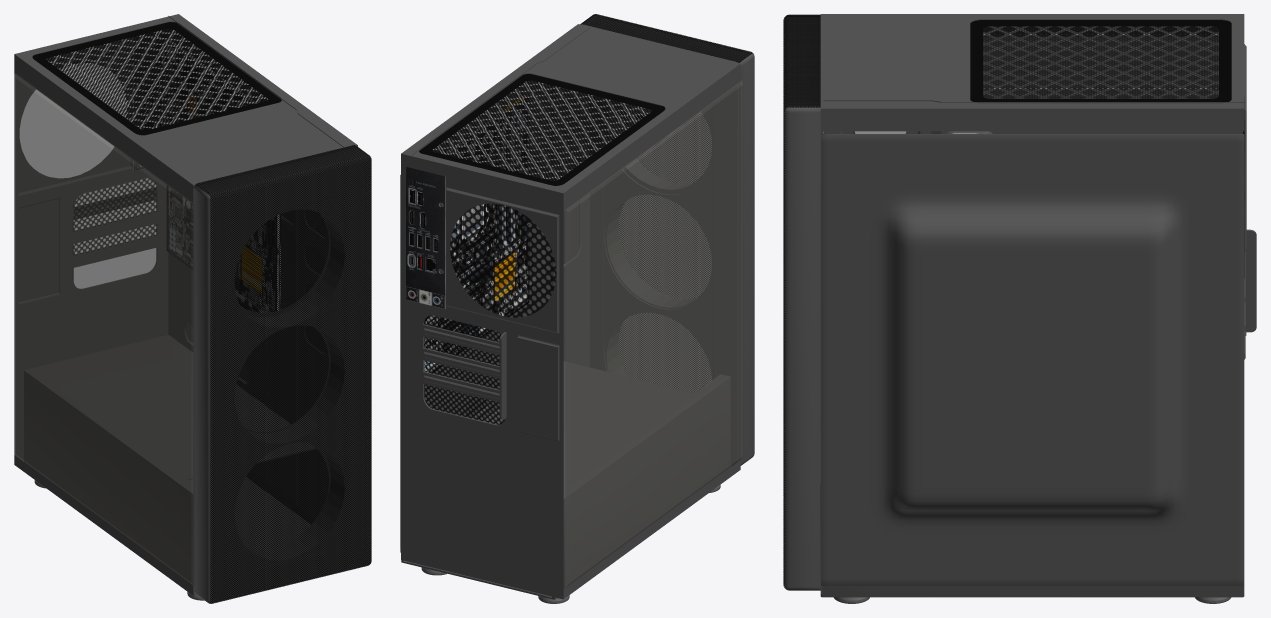
File: case_motherboard_cpu.glb
3 renders of one model, left to right at view 1: azimuth 30°, elevation 25°; view 2: azimuth 150°, elevation 25°; view 3: azimuth 270°, elevation 25°, orthographic. The views are drawn at different scales.
Parts seen in each view (by area): view 1: front, panel, case, front_fan_blocker, psu_cover, filter, case-motherboard-plate, motherboard, case-back-plate, io; view 2: case, panel, psu_cover, front, front_fan_blocker, filter, motherboard, case-motherboard-plate, io, case-back-plate, Cube.001; view 3: case-back-plate, case, front, filter, psu_cover, front_fan_blocker, case-motherboard-plate, Cube.001, panel.
Boxes of the visible parts, left/top/right/bottom form: front: left=193, top=145, right=371, bottom=603; panel: left=15, top=73, right=194, bottom=585; case: left=14, top=14, right=357, bottom=595; front_fan_blocker: left=197, top=147, right=369, bottom=601; psu_cover: left=24, top=335, right=315, bottom=585; filter: left=32, top=22, right=281, bottom=135; case-motherboard-plate: left=168, top=16, right=343, bottom=518; motherboard: left=166, top=40, right=280, bottom=312; case-back-plate: left=186, top=209, right=327, bottom=382; io: left=133, top=29, right=168, bottom=171; case: left=401, top=24, right=740, bottom=599; panel: left=565, top=80, right=742, bottom=587; psu_cover: left=401, top=361, right=731, bottom=599; front: left=580, top=14, right=754, bottom=465; front_fan_blocker: left=579, top=16, right=750, bottom=464; filter: left=419, top=74, right=665, bottom=185; motherboard: left=424, top=95, right=529, bottom=372; case-motherboard-plate: left=411, top=27, right=589, bottom=420; io: left=406, top=166, right=445, bottom=309; case-back-plate: left=400, top=89, right=578, bottom=552; Cube.001: left=499, top=332, right=506, bottom=419; case-back-plate: left=821, top=134, right=1244, bottom=585; case: left=820, top=14, right=1246, bottom=593; front: left=783, top=14, right=820, bottom=590; filter: left=970, top=20, right=1231, bottom=101; psu_cover: left=820, top=484, right=1244, bottom=597; front_fan_blocker: left=787, top=17, right=822, bottom=483; case-motherboard-plate: left=823, top=100, right=1244, bottom=133; Cube.001: left=1245, top=229, right=1256, bottom=332; panel: left=823, top=38, right=1218, bottom=133.
Size of the model in its own units: 0.6244 by 1.37 by 1.17.
Materials: 17 (6 with a texture image).
